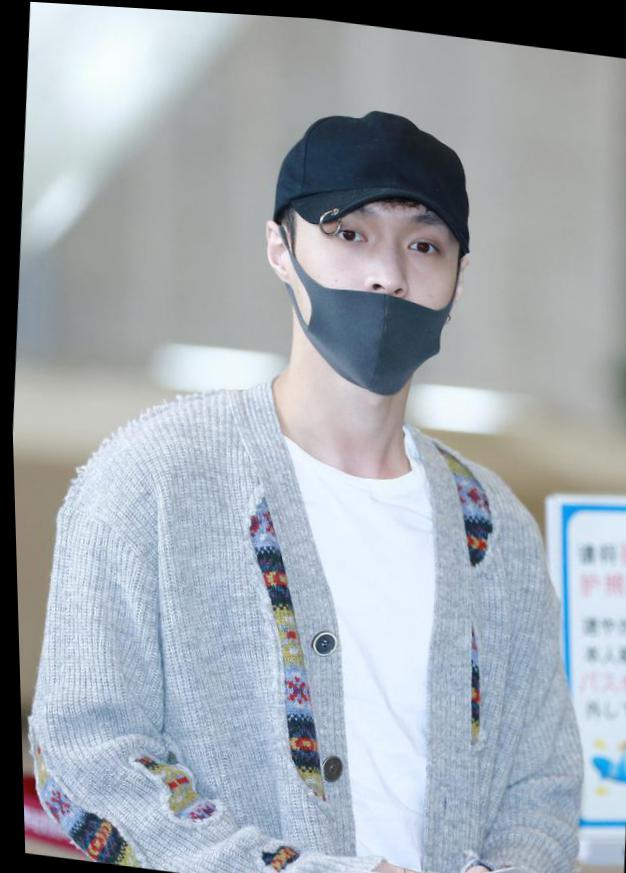WRONG: (289, 169, 467, 399)
